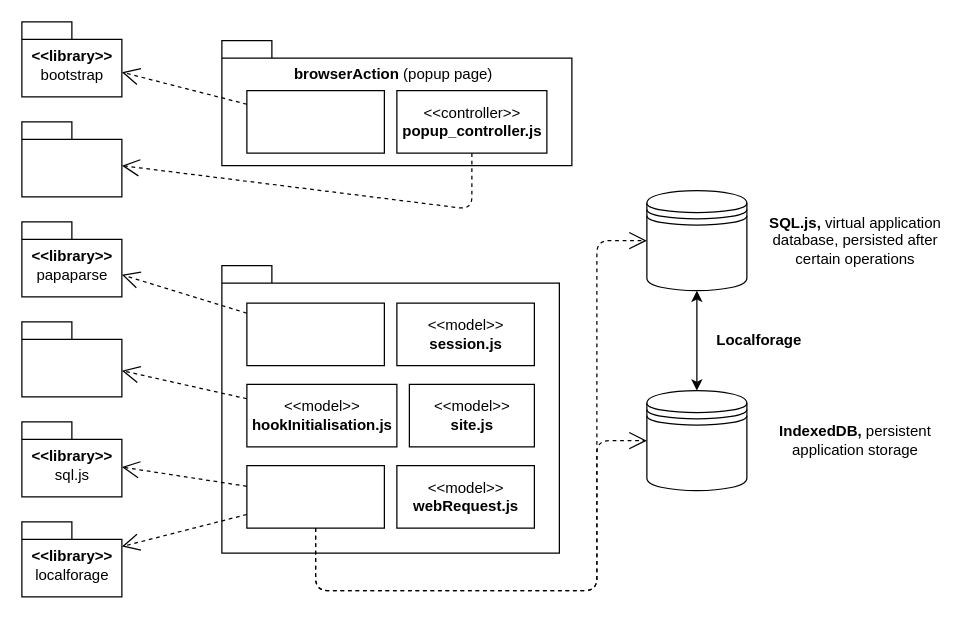
The diagram is 969 pixels wide and 630 high, and some of its shapes have lost their labels. The shapes that lost their labels are listed below. From the top down, each one's centre as x and y in pixels, then its label:
point 315,121: <<view>> popup.html
point 71,159: <<library>> jQuery
point 315,334: <<model>> list.js
point 71,359: <<library>> psl
point 315,496: <<model>> dynamicDao.js
